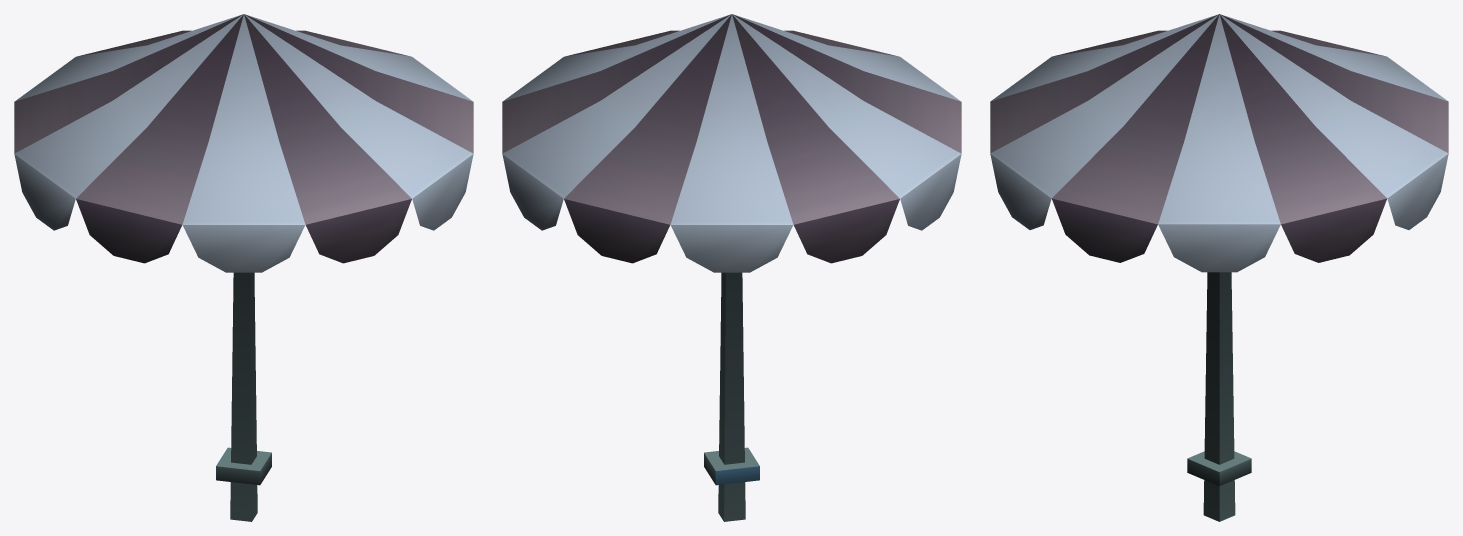
File: Umbrella_2C.fbx
3 renders of one model, left to right at view 1: azimuth 30°, elevation 25°; view 2: azimuth 150°, elevation 25°; view 3: azimuth 270°, elevation 25°, orthographic.
Parts seen in each view (by area): view 1: Umbrella_2C; view 2: Umbrella_2C; view 3: Umbrella_2C.
Boxes of the visible parts, x1=… form: Umbrella_2C: x1=14, y1=14, x2=473, y2=521; Umbrella_2C: x1=502, y1=14, x2=961, y2=521; Umbrella_2C: x1=990, y1=14, x2=1448, y2=521.
Size of the model in its own units: 112 by 135 by 112.
